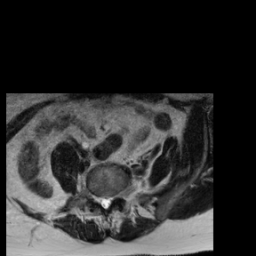CCS_normal: (103, 193, 108, 214)
LFS_stenosis: (113, 189, 117, 202)
LLS_normal: (108, 193, 112, 208)
RFS_normal: (92, 190, 98, 206)
RLS_normal: (98, 191, 103, 210)
